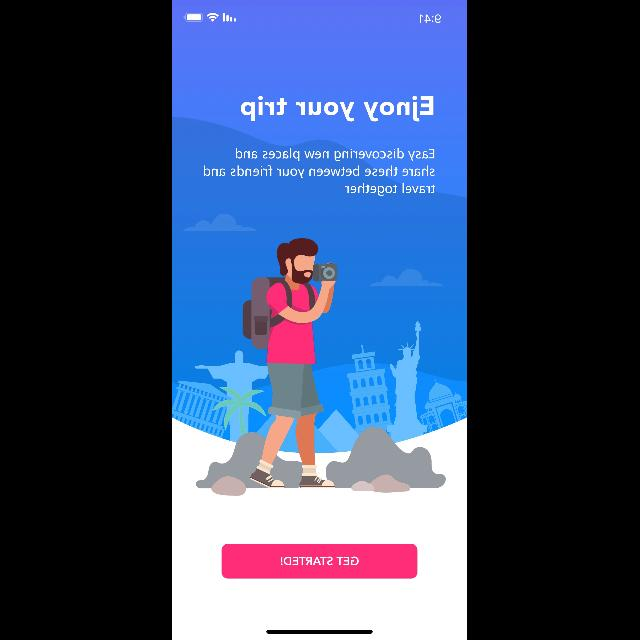image: (172, 214, 468, 496)
text: (204, 148, 436, 196), (242, 96, 434, 122)
textbutton: (222, 544, 418, 578)
uppertaskbar: (184, 12, 442, 24)
